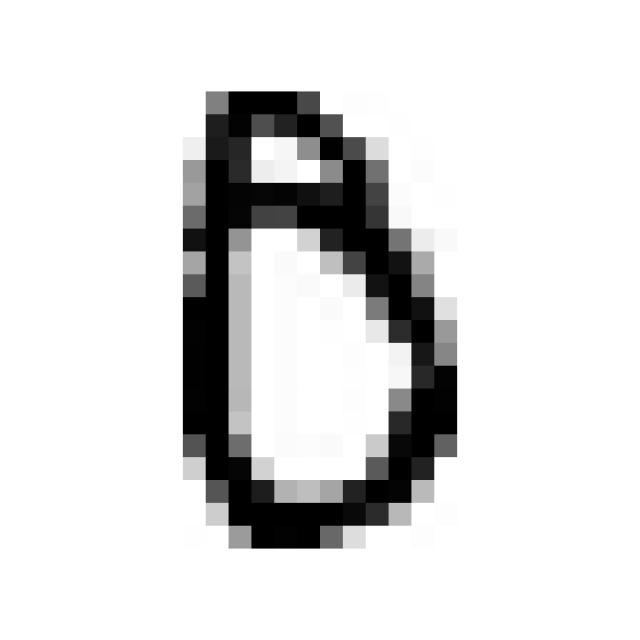5 -five-: (153, 71, 473, 563)
